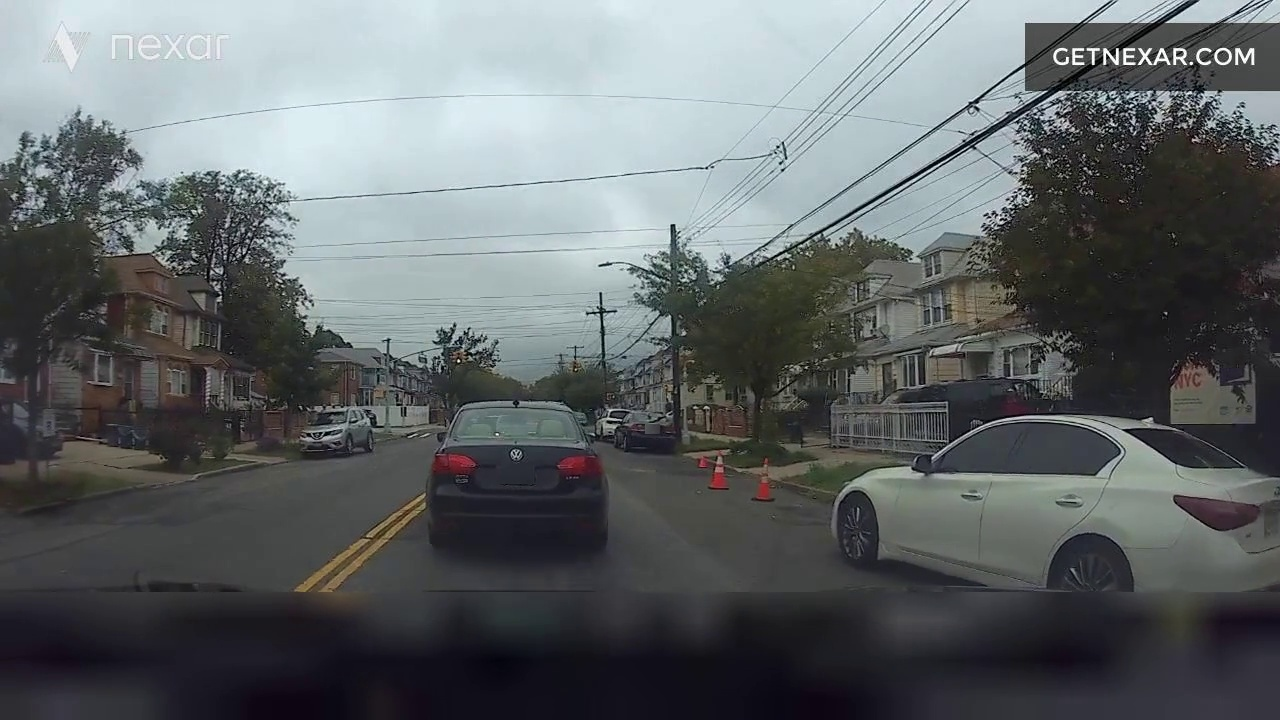car: (820, 408, 1280, 610), (422, 384, 611, 575), (295, 393, 372, 469), (612, 392, 680, 457)
traffic light: (437, 320, 482, 379)
